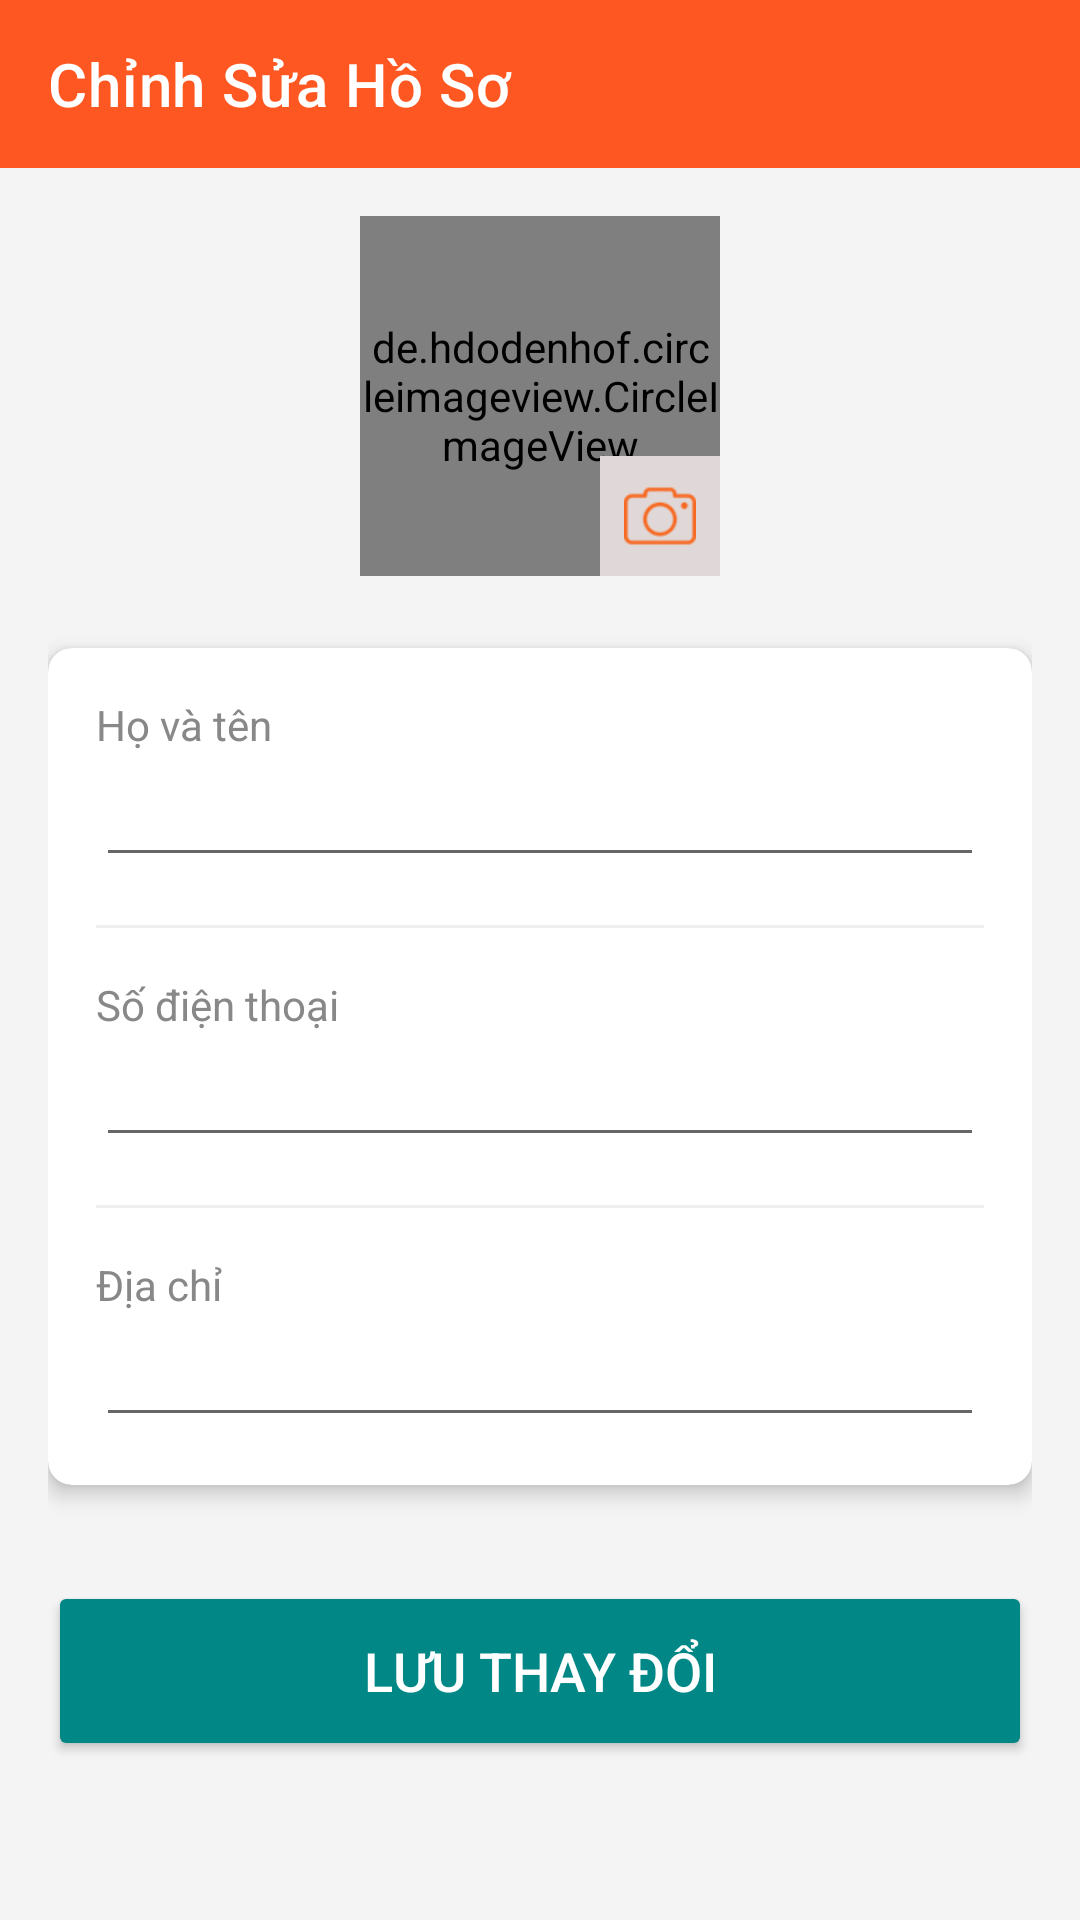

Named icons in this screenshot (1080*1920) and their centers, (x=x, y=y):
Chọn ảnh: (x=660, y=516)
